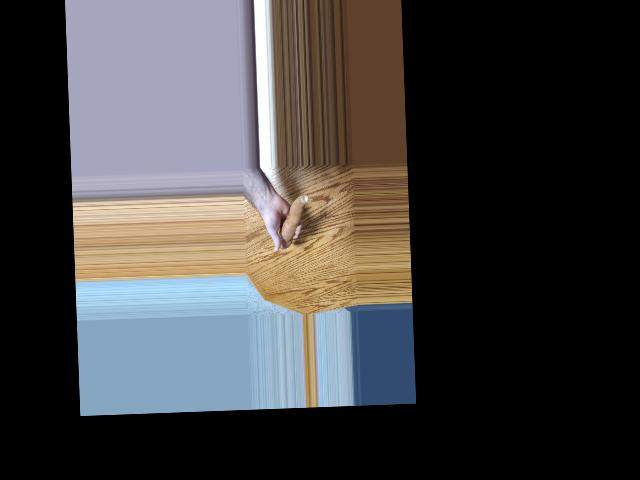sweet_potato: (278, 191, 309, 246)
